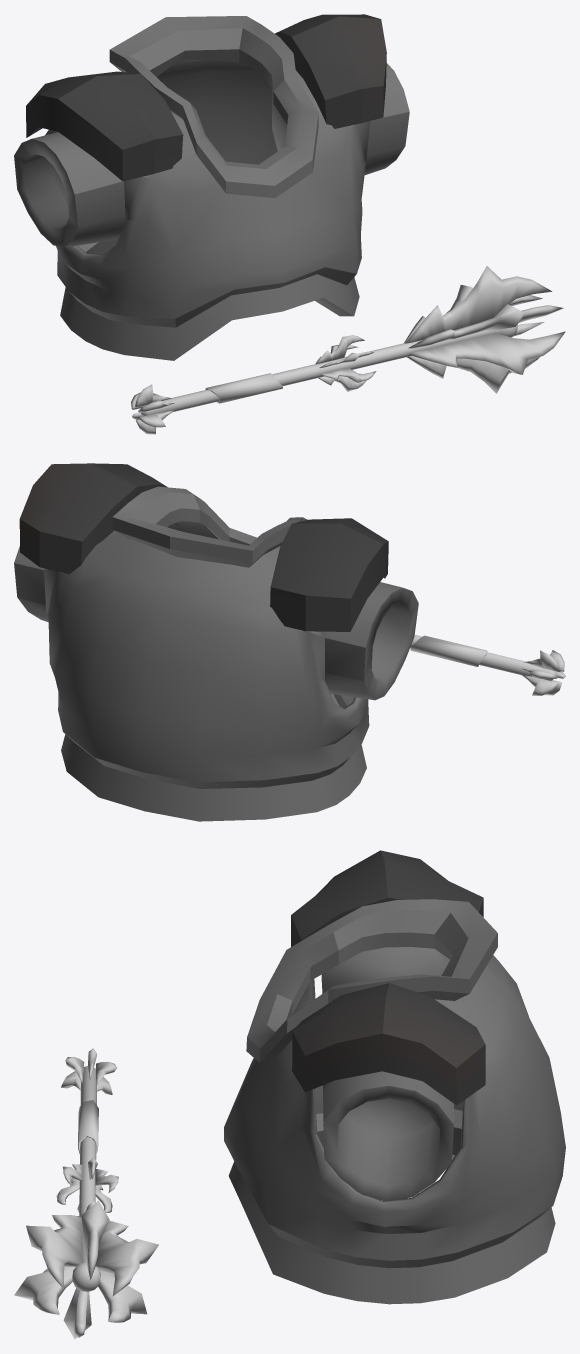
File: kilic5zırh2.fbx
3 views of the same model, one above another, from view 1: azimuth 30°, elevation 25°; view 2: azimuth 150°, elevation 25°; view 3: azimuth 270°, elevation 25° (orthographic). The views are drawn at different scales.
Parts seen in each view (by area): view 1: asker lvl4 zırh.005, asker lvl4 zırh.006; view 2: asker lvl4 zırh.005, asker lvl4 zırh.006; view 3: asker lvl4 zırh.005, asker lvl4 zırh.006.
Part boxes in pixels (x1,y1,x2,y2): asker lvl4 zırh.005: (14, 14, 409, 360); asker lvl4 zırh.006: (131, 266, 565, 434); asker lvl4 zırh.005: (14, 463, 418, 821); asker lvl4 zırh.006: (410, 635, 565, 695); asker lvl4 zırh.005: (224, 850, 565, 1304); asker lvl4 zırh.006: (14, 1048, 158, 1339).
Size of the model in its own units: 170 by 110 by 167.
